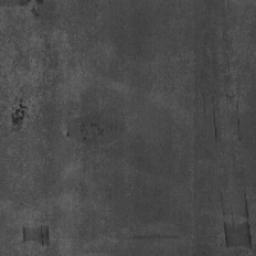Rolled pit: (67, 86, 125, 142), (222, 190, 251, 248), (213, 95, 239, 140), (22, 225, 50, 246), (11, 103, 27, 125), (31, 5, 39, 17)
